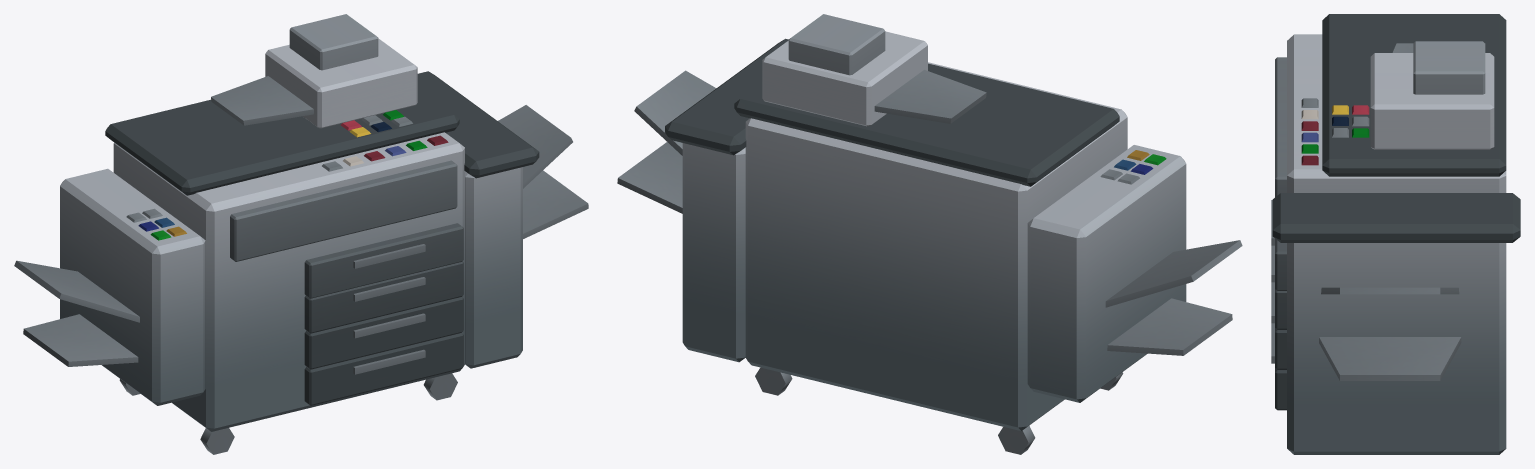
File: Photocopier_01.fbx
3 views of the same model, side by side, from view 1: azimuth 30°, elevation 25°; view 2: azimuth 150°, elevation 25°; view 3: azimuth 270°, elevation 25° (orthographic). The views are drawn at different scales.
Visible parts, largest first — view 1: Box019; view 2: Box019; view 3: Box019.
Boxes of the visible parts, bbox=[...] form: Box019: bbox=[14, 14, 588, 454]; Box019: bbox=[617, 14, 1242, 454]; Box019: bbox=[1271, 14, 1520, 454].
Size of the model in its own units: 316 by 187 by 116.
